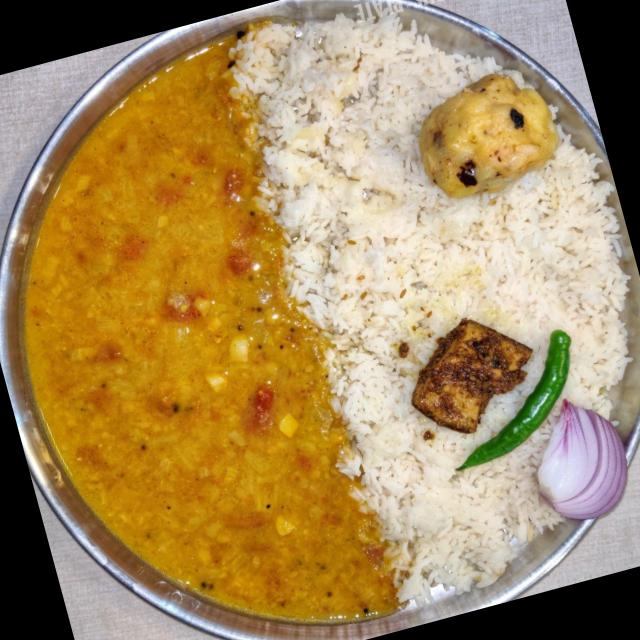dal: (28, 39, 395, 618)
rice: (226, 27, 621, 602)
